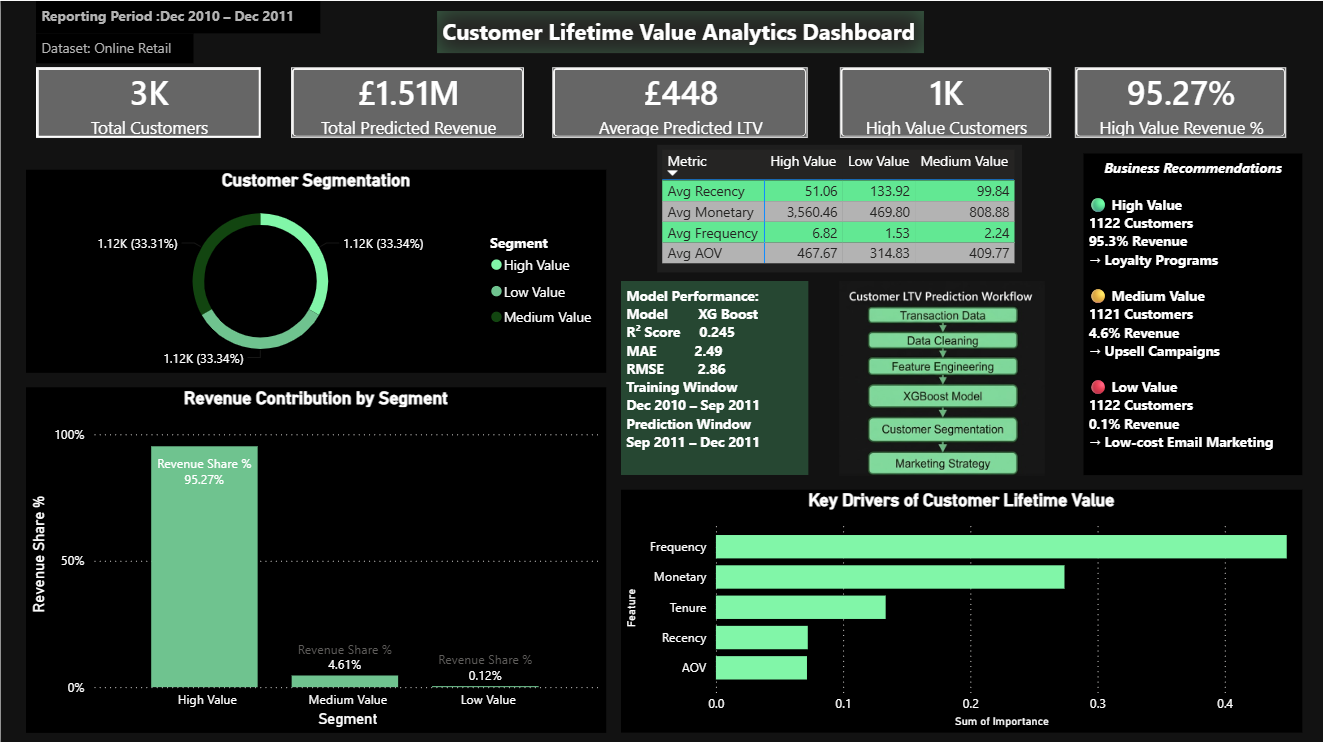

Layout of this report page (visuals, bound fields, positions):
{"tool":"powerbi","page":{"name":"Page 1","canvas":[1280,720],"ordinal":0},"visuals":[{"type":"cardVisual","fields":{"Data":["customer_ltv_predictions.Total Customers"]},"box":[33.8,63.9,217.2,68.8],"z":0},{"type":"cardVisual","fields":{"Data":["customer_ltv_predictions.Total Predicted Revenue"]},"box":[279.9,64.5,225,68.6],"z":1000},{"type":"cardVisual","fields":{"Data":["customer_ltv_predictions.Average Predicted LTV"]},"box":[532.4,64.5,247,68.6],"z":2000},{"type":"cardVisual","fields":{"Data":["customer_ltv_predictions.High Value Customers"]},"box":[809.6,64.5,204.5,68.6],"z":3000},{"type":"donutChart","title":"Customer Segmentation","fields":{"Y":["CountNonNull(customer_ltv_predictions.CustomerID)"],"Category":["customer_ltv_predictions.Segment"]},"box":[24.7,163.3,559.9,196.2],"z":4000},{"type":"clusteredBarChart","title":"Key Drivers of Customer Lifetime Value","fields":{"Category":["Feature Importance.Feature"],"Y":["Sum(Feature Importance.Importance)"]},"box":[598.3,472,657.3,234.6],"z":5000},{"type":"cardVisual","fields":{"Data":["Feature Importance.High Value Revenue %"]},"box":[1036,64.5,204.5,68.6],"z":6000},{"type":"clusteredColumnChart","title":"Revenue Contribution by Segment","fields":{"Category":["customer_ltv_predictions.Segment"],"Y":["Feature Importance.Revenue Share %"]},"box":[24.7,373.2,559.9,333.4],"z":7000},{"type":"textbox","box":[1044.3,146.8,211.3,310.1],"z":7001},{"type":"textbox","box":[421.3,9.6,469.3,41.2],"z":7002},{"type":"textbox","box":[34.3,0,274.4,31.6],"z":7003},{"type":"textbox","box":[34.3,31.6,152.3,28.8],"z":7004},{"type":"pivotTable","fields":{"Rows":["Metrics.Metric"],"Columns":["dashboard_dataset.Segment"],"Values":["Feature Importance.Metric Value"]},"box":[598.4,138.7,352.3,123.1],"z":7005},{"type":"textbox","box":[598.4,270.2,181,187],"z":7006},{"type":"image","box":[779.4,270.2,257,188.2],"z":7007}]}

Visuals, with their boxes in screenshot pixels (x1, y1, x2, y2), scaled from the page's 1280x720 canvas onto the 1323x742 screenshot:
cardVisual - customer_ltv_predictions.Total Customers: <box>35,66,259,137</box>
cardVisual - customer_ltv_predictions.Total Predicted Revenue: <box>289,66,522,137</box>
cardVisual - customer_ltv_predictions.Average Predicted LTV: <box>550,66,806,137</box>
cardVisual - customer_ltv_predictions.High Value Customers: <box>837,66,1048,137</box>
"Customer Segmentation" donutChart: <box>26,168,604,370</box>
"Key Drivers of Customer Lifetime Value" clusteredBarChart: <box>618,486,1298,728</box>
cardVisual - Feature Importance.High Value Revenue %: <box>1071,66,1282,137</box>
"Revenue Contribution by Segment" clusteredColumnChart: <box>26,385,604,728</box>
textbox: <box>1079,151,1298,471</box>
textbox: <box>435,10,921,52</box>
textbox: <box>35,0,319,33</box>
textbox: <box>35,33,193,62</box>
pivotTable - Metrics.Metric x dashboard_dataset.Segment: <box>619,143,983,270</box>
textbox: <box>619,278,806,471</box>
image: <box>806,278,1071,472</box>
